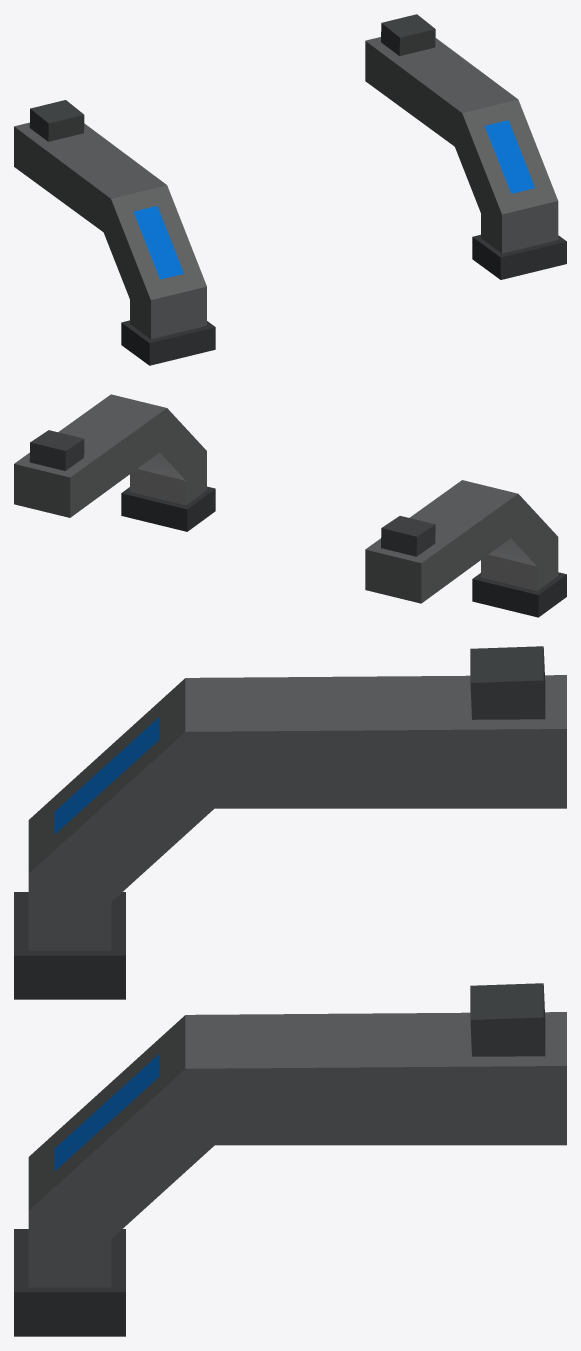
The model's file is Ladder_handle_002.fbx.
The picture shows the model from 3 angles, top to bottom: view 1: azimuth 30°, elevation 25°; view 2: azimuth 150°, elevation 25°; view 3: azimuth 270°, elevation 25°; orthographic projection. The views are drawn at different scales.
Parts seen in each view (by area): view 1: Ladder_handle_002; view 2: Ladder_handle_002; view 3: Ladder_handle_002.
Part boxes in pixels (x1,y1,x2,y2): Ladder_handle_002: (14, 14, 566, 365); Ladder_handle_002: (14, 394, 566, 617); Ladder_handle_002: (14, 646, 566, 1336).
Bounding box in the file's own units: 119 × 69.36 × 42.16.
